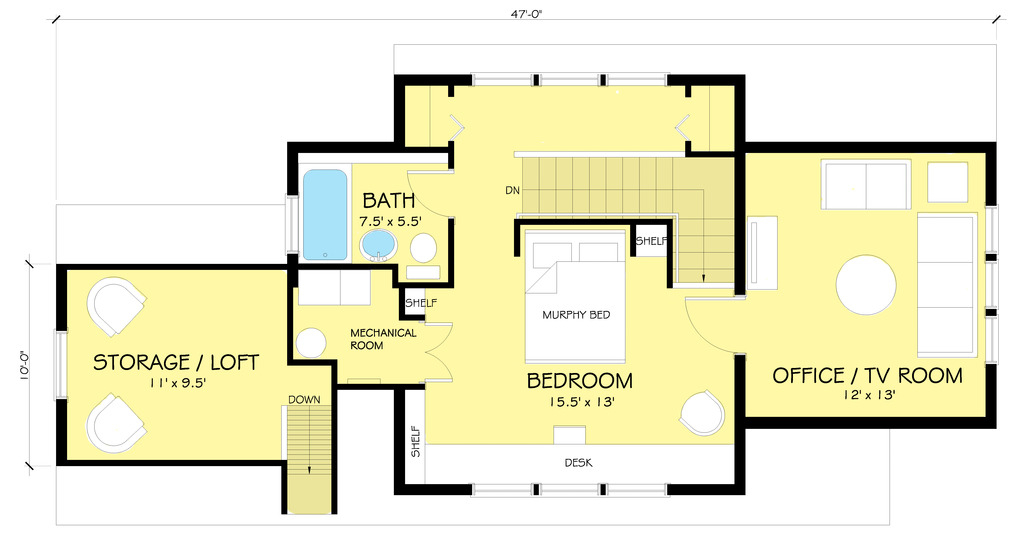bed: (523, 225, 631, 370)
coffee_table: (922, 158, 975, 205)
door: (679, 293, 748, 356), (403, 169, 457, 220), (420, 320, 459, 387)
large_sink: (402, 227, 443, 283)
large_sofa: (913, 212, 981, 358), (817, 154, 913, 217)
small_sink: (354, 228, 398, 265)
small_sofa: (81, 392, 150, 454), (86, 273, 148, 339), (675, 387, 728, 440)
stairs: (515, 146, 738, 223), (277, 392, 337, 517)
tub: (296, 163, 353, 265)
window: (464, 68, 671, 91), (464, 480, 675, 502), (981, 203, 1004, 369), (48, 325, 73, 406)
